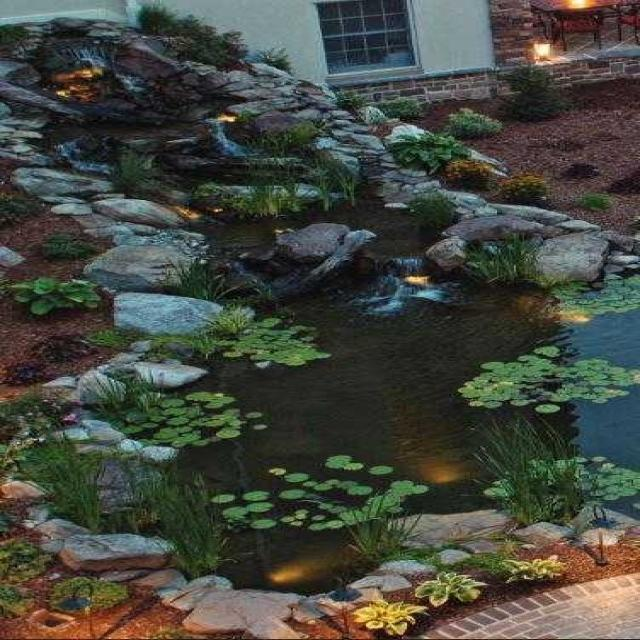Ponds: (1, 19, 640, 640)
